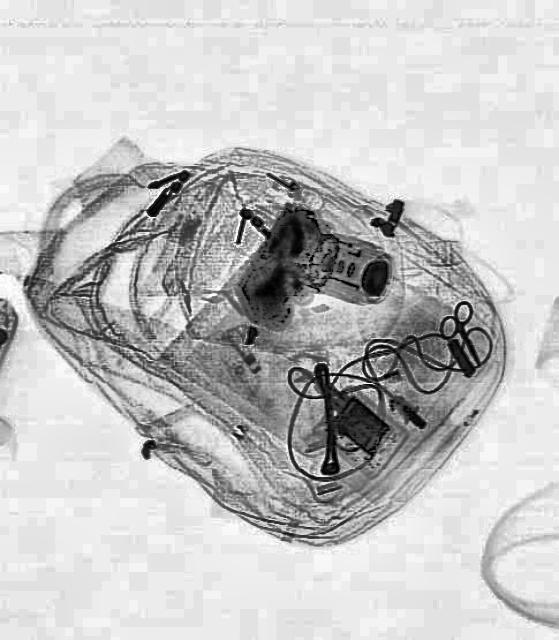Scissors: (431, 296, 497, 376)
